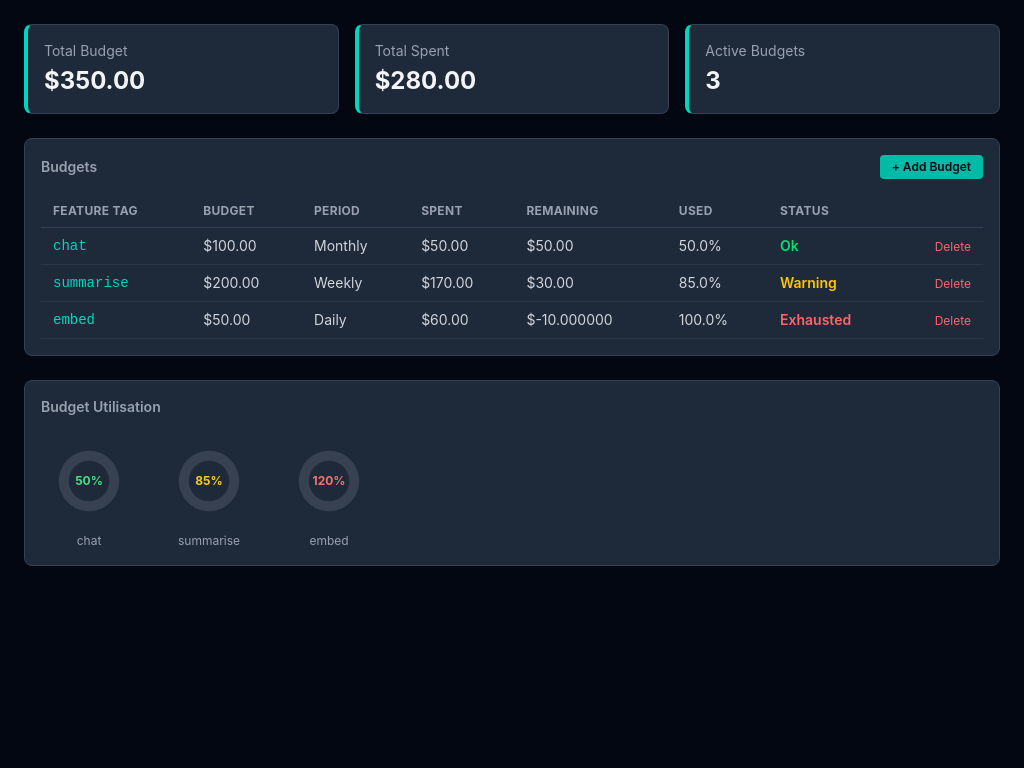
Test case: BudgetManager › shows the add-budget form when '+ Add Budget' button is clicked
Click the button "+ Add Budget" at (931,167), box x1=880 y1=155 x2=983 y2=179
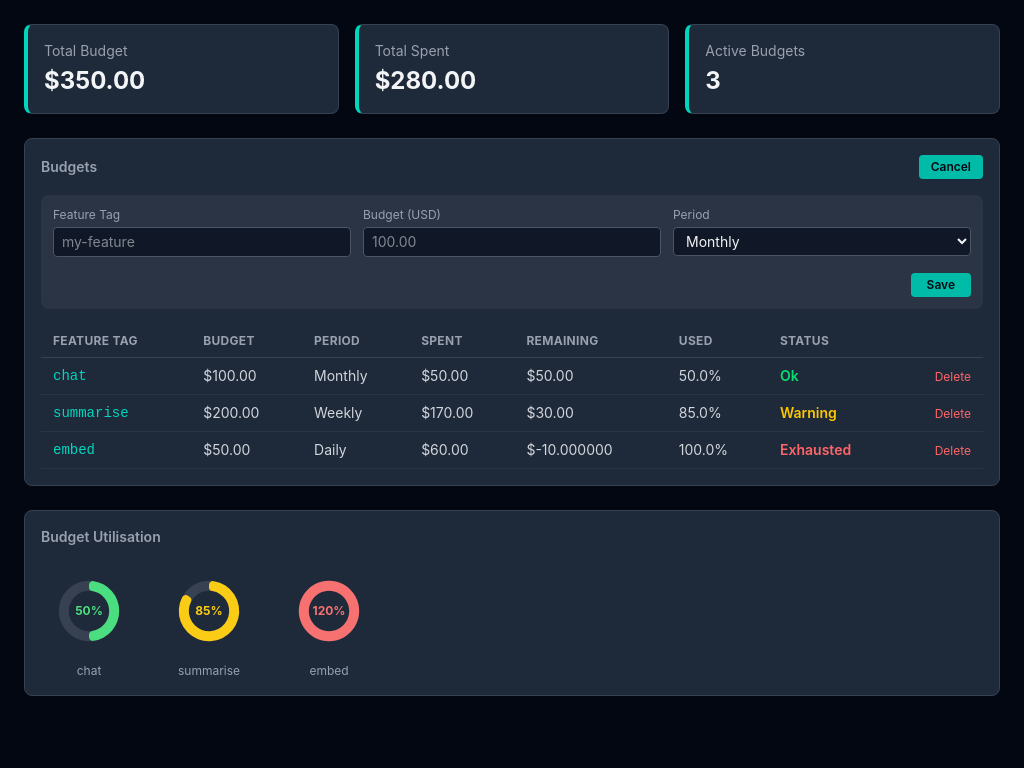
Now the field with placeholder "my-feature" is shown, box x1=53 y1=227 x2=351 y2=257
Now the number field with placeholder "100.00" is shown, box x1=363 y1=227 x2=661 y2=257
Now the dropdown is shown, box x1=673 y1=227 x2=971 y2=256
